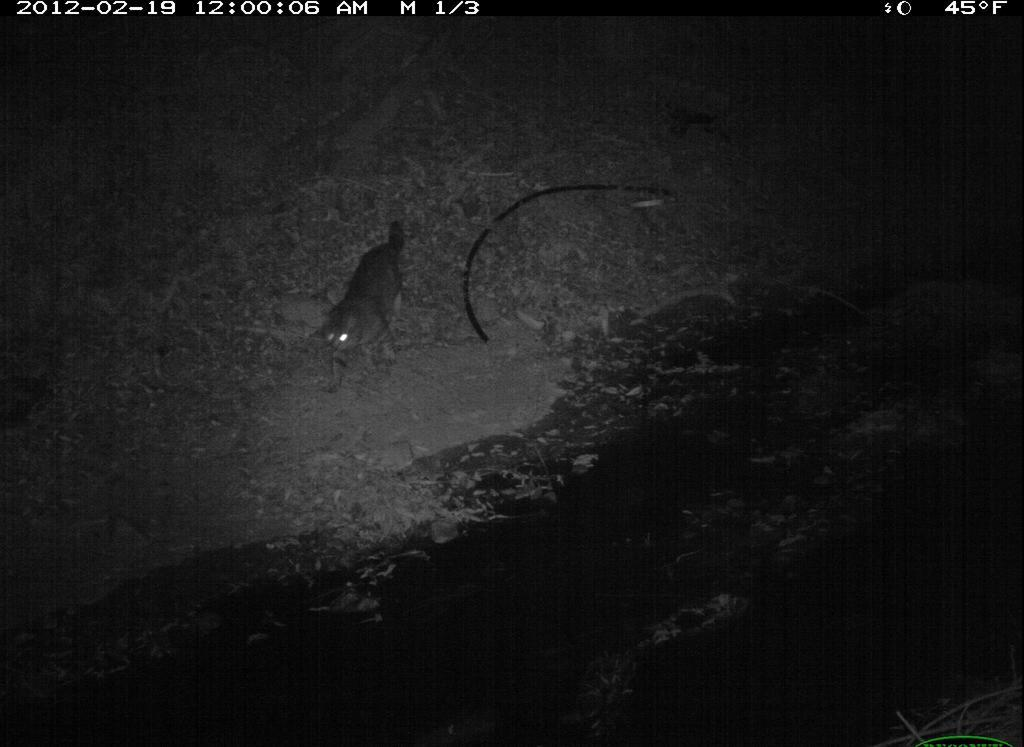cat: (315, 218, 410, 399)
